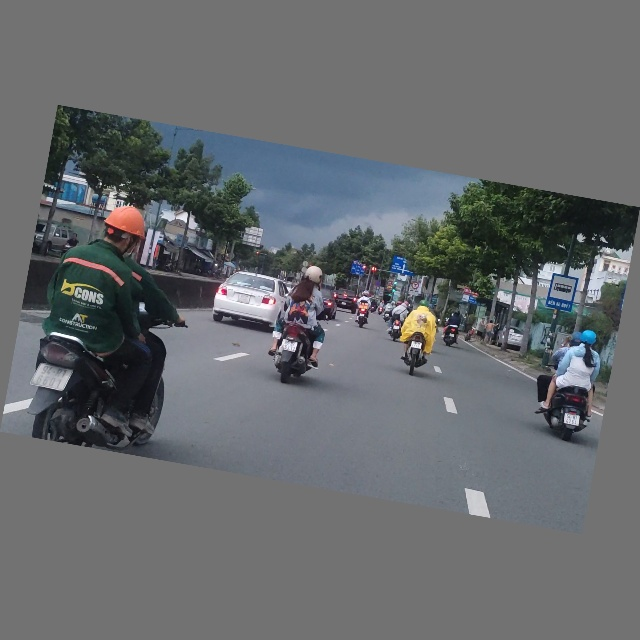I.434a: (546, 274, 577, 312)
P.137: (411, 282, 419, 290)
R.415a: (350, 264, 366, 277)
